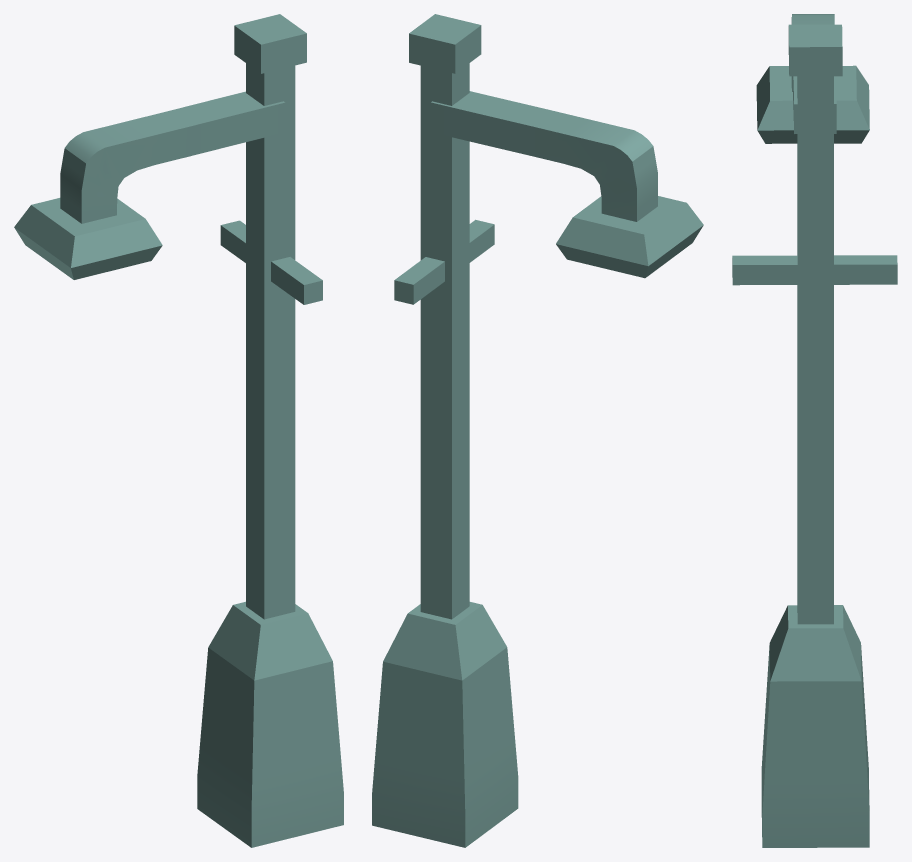
File: lightpole.fbx
3 views of the same model, side by side, from view 1: azimuth 30°, elevation 25°; view 2: azimuth 150°, elevation 25°; view 3: azimuth 270°, elevation 25° (orthographic).
Parts seen in each view (by area): view 1: lightpole; view 2: lightpole; view 3: lightpole.
Part boxes in pixels (x1,y1,x2,y2): lightpole: [14, 14, 343, 847]; lightpole: [372, 14, 703, 847]; lightpole: [732, 14, 897, 847].
Size of the model in its own units: 495 by 1348 by 255.
